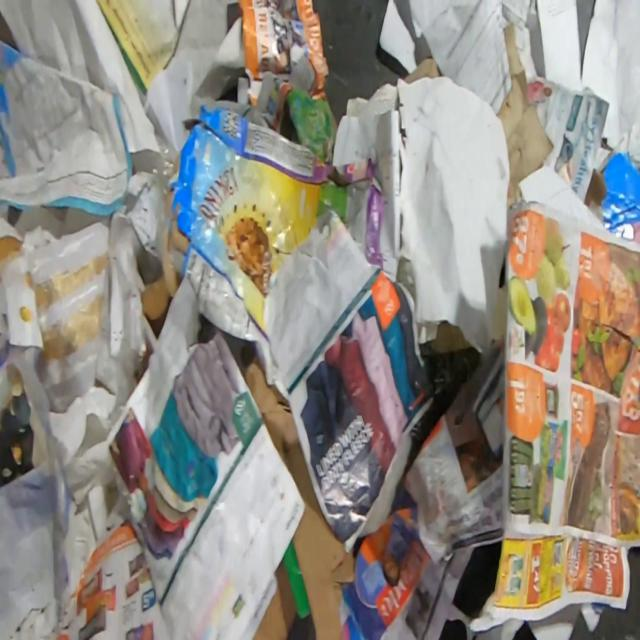cardboard: (137, 104, 386, 398), (240, 354, 357, 640), (233, 560, 316, 640), (600, 152, 640, 240), (584, 167, 607, 206)
rigid_plastic: (132, 134, 179, 196)
